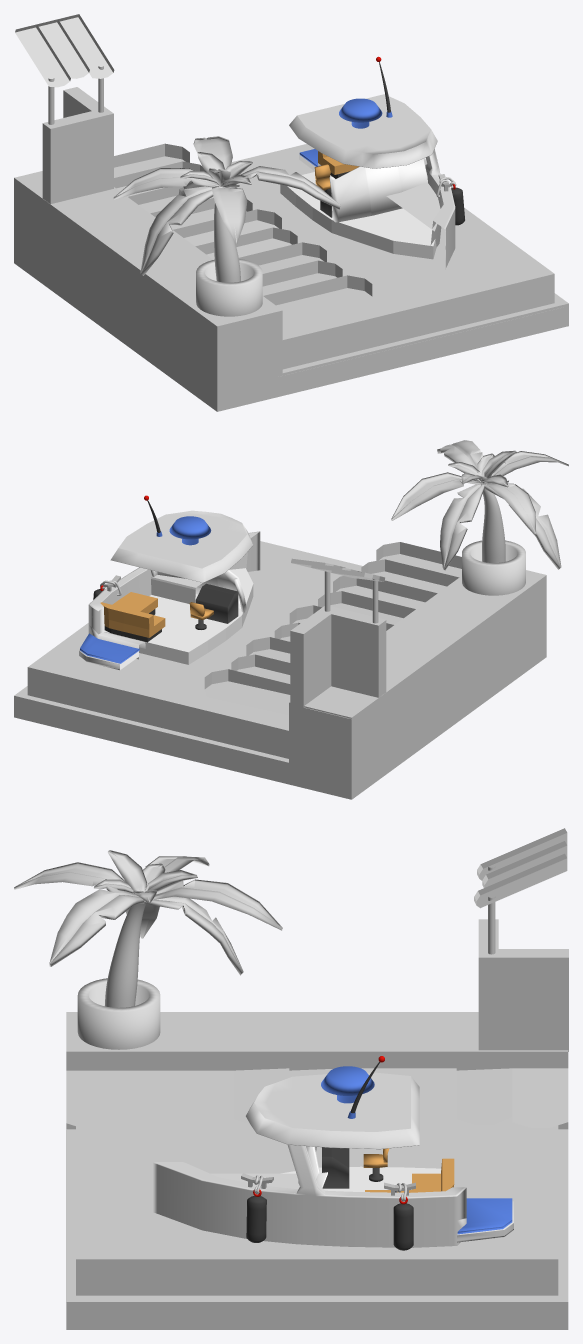
The model's file is boat.glb.
3 renders of one model, top to bottom at view 1: azimuth 30°, elevation 25°; view 2: azimuth 150°, elevation 25°; view 3: azimuth 270°, elevation 25°, orthographic. The views are drawn at different scales.
Parts seen in each view (by area): view 1: Plane.016, Plane.018, Plane.017, Plane.015, Plane.019, Plane.001, Plane.031, Plane.006, Plane.005, Cylinder.005, Plane.022, Plane (+7 smaller); view 2: Plane.016, Plane.018, Plane.017, Plane.019, Plane.015, Plane.001, Plane.006, Cylinder.005, Plane, Plane.020, Plane.024, NurbsPath.005 (+12 smaller); view 3: Plane.018, Plane.017, Plane.016, Plane.015, Plane, Plane.001, Plane.019, Cylinder.005, Plane.031, Plane.023, NurbsPath.005, Plane.024 (+11 smaller).
Part boxes in pixels (bbox=[...]): Plane.016: bbox=[14, 171, 282, 411]; Plane.018: bbox=[231, 144, 554, 369]; Plane.017: bbox=[114, 143, 372, 325]; Plane.015: bbox=[282, 293, 568, 395]; Plane.019: bbox=[42, 87, 113, 204]; Plane.001: bbox=[289, 94, 437, 168]; Plane.031: bbox=[15, 14, 114, 87]; Plane.006: bbox=[280, 172, 436, 259]; Plane.005: bbox=[329, 159, 427, 222]; Cylinder.005: bbox=[196, 259, 262, 316]; Plane.022: bbox=[140, 184, 222, 275]; Plane: bbox=[318, 149, 455, 269]; Plane.016: bbox=[289, 570, 546, 799]; Plane.018: bbox=[27, 541, 362, 758]; Plane.017: bbox=[204, 542, 461, 715]; Plane.019: bbox=[290, 606, 386, 718]; Plane.015: bbox=[14, 686, 288, 784]; Plane.001: bbox=[110, 510, 252, 582]; Plane.006: bbox=[104, 568, 253, 664]; Cylinder.005: bbox=[462, 540, 525, 595]; Plane: bbox=[88, 531, 260, 659]; Plane.020: bbox=[440, 484, 484, 570]; Plane.024: bbox=[391, 472, 481, 520]; NurbsPath.005: bbox=[482, 489, 505, 562]; Plane.018: bbox=[66, 1117, 558, 1301]; Plane.017: bbox=[66, 1055, 568, 1128]; Plane.016: bbox=[66, 1012, 568, 1129]; Plane.015: bbox=[66, 1129, 568, 1329]; Plane: bbox=[153, 1144, 466, 1247]; Plane.001: bbox=[245, 1072, 419, 1149]; Plane.019: bbox=[478, 919, 568, 1051]; Cylinder.005: bbox=[77, 978, 160, 1049]; Plane.031: bbox=[474, 828, 567, 908]; Plane.023: bbox=[49, 885, 144, 966]; NurbsPath.005: bbox=[105, 903, 145, 1007]; Plane.024: bbox=[144, 879, 282, 930].
Size of the model in its own units: 12.57 by 7.08 by 12.28.
